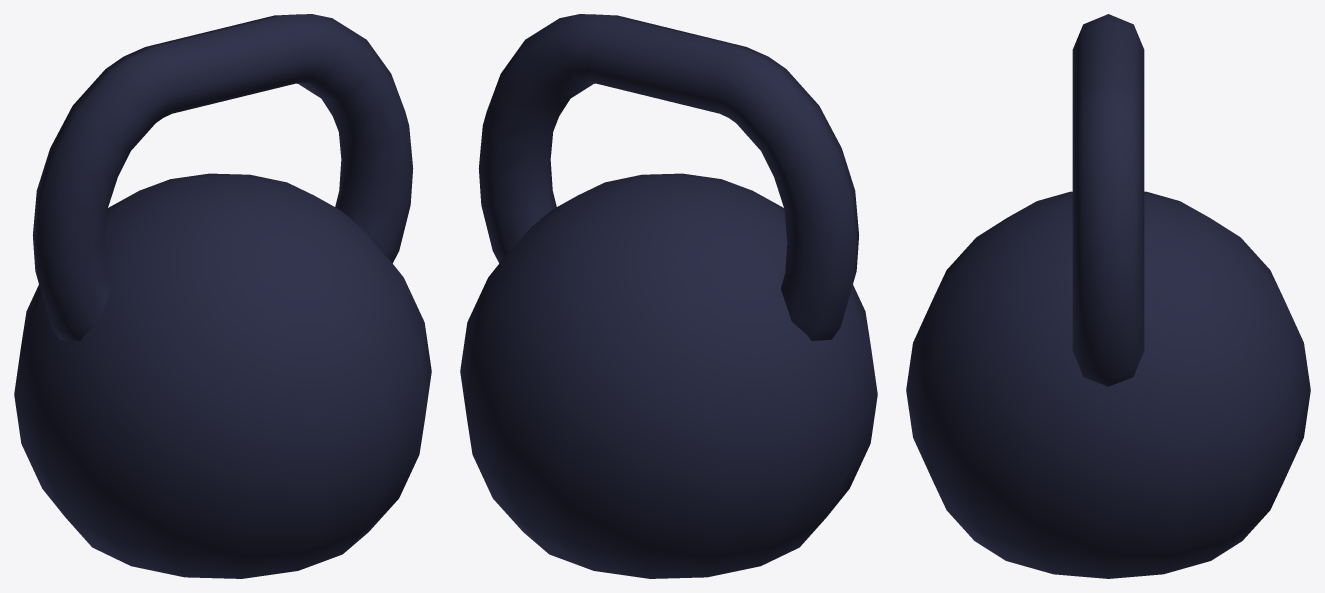
The model's file is WeightModel.fbx.
The picture shows the model from 3 angles, left to right: view 1: azimuth 30°, elevation 25°; view 2: azimuth 150°, elevation 25°; view 3: azimuth 270°, elevation 25°; orthographic projection. The views are drawn at different scales.
Parts seen in each view (by area): view 1: WeightModel; view 2: WeightModel; view 3: WeightModel.
Part boxes in pixels (left/top/right/bottom): WeightModel: left=14, top=14, right=431, bottom=578; WeightModel: left=460, top=14, right=877, bottom=578; WeightModel: left=906, top=14, right=1310, bottom=578.
Bounding box in the file's own units: 61.34 × 76.54 × 60.
